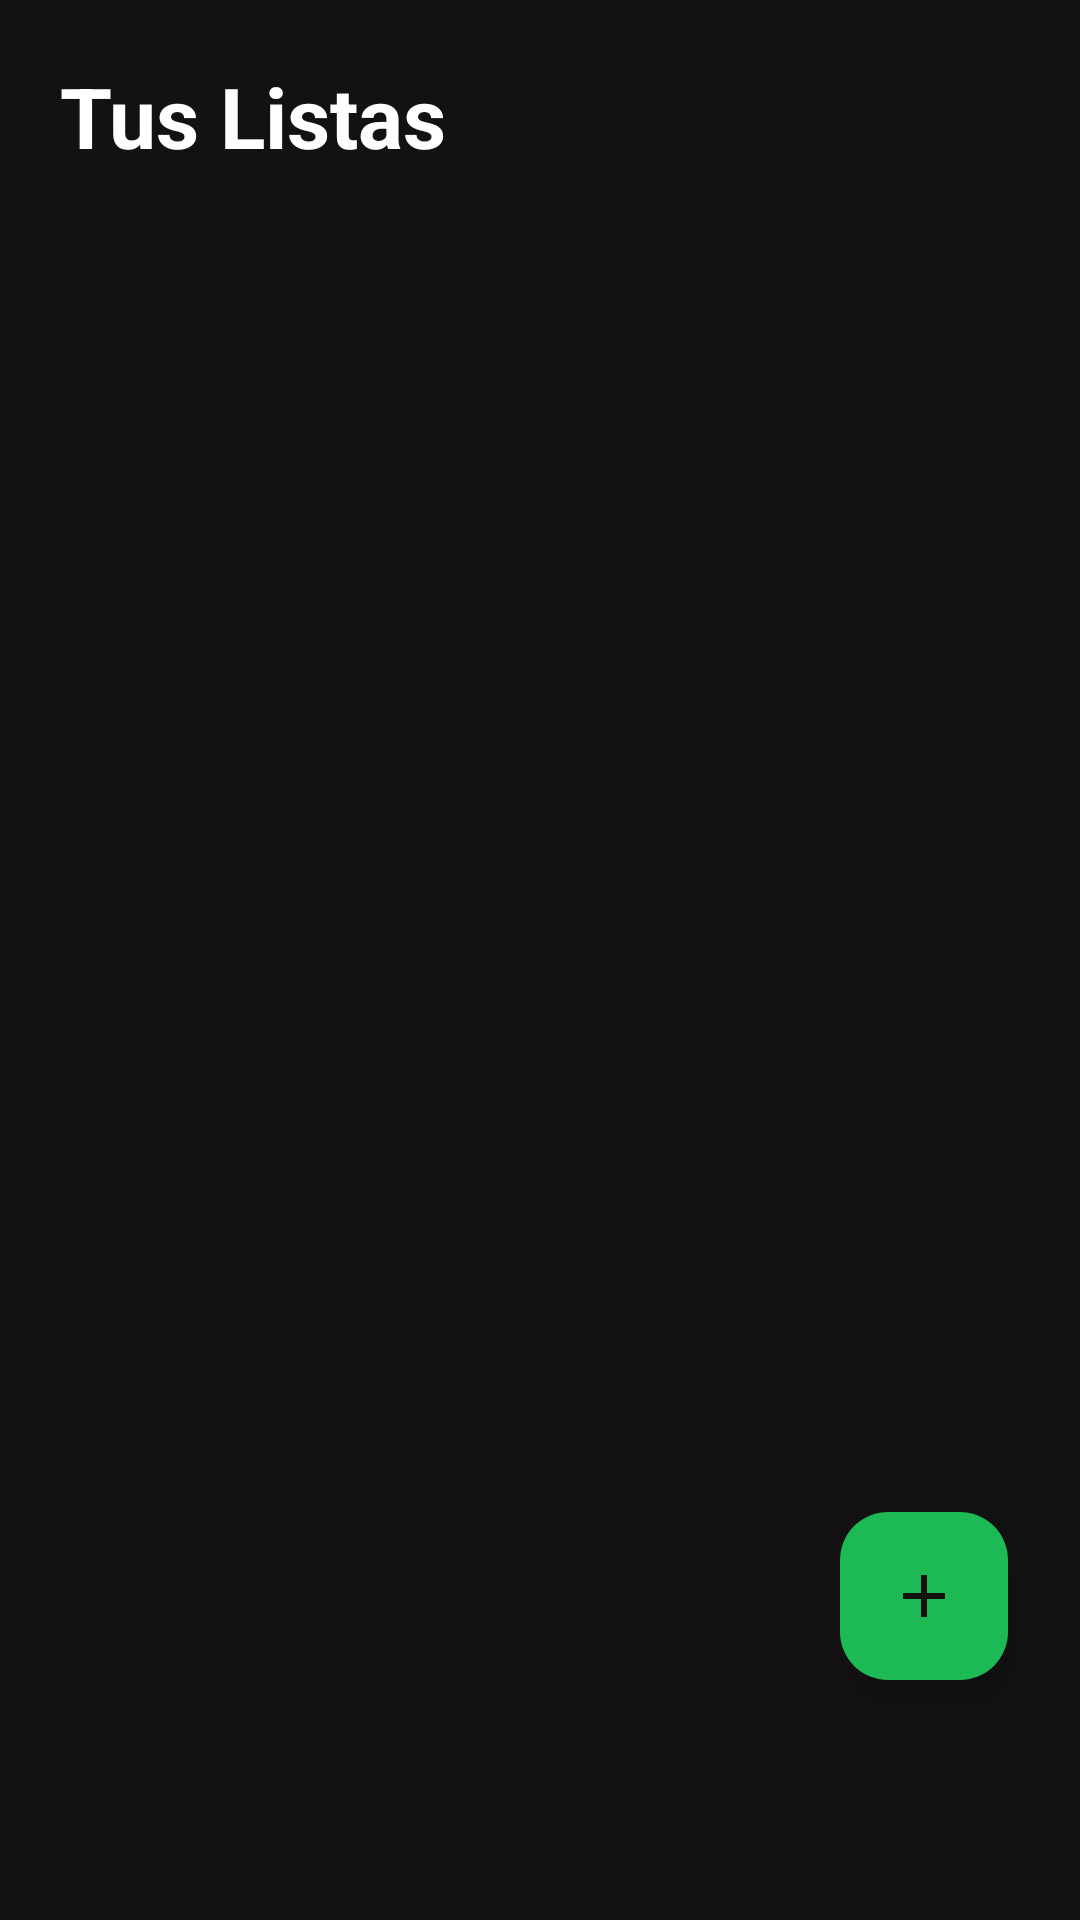

Screen size 1080 × 1920. Icon name, then its center in pixels as [x,y]:
Crear lista: [924,1596]
